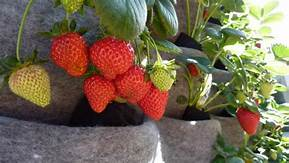Fresa: (46, 28, 93, 80), (88, 31, 137, 78), (81, 72, 119, 117), (137, 79, 171, 123), (235, 102, 263, 138)
